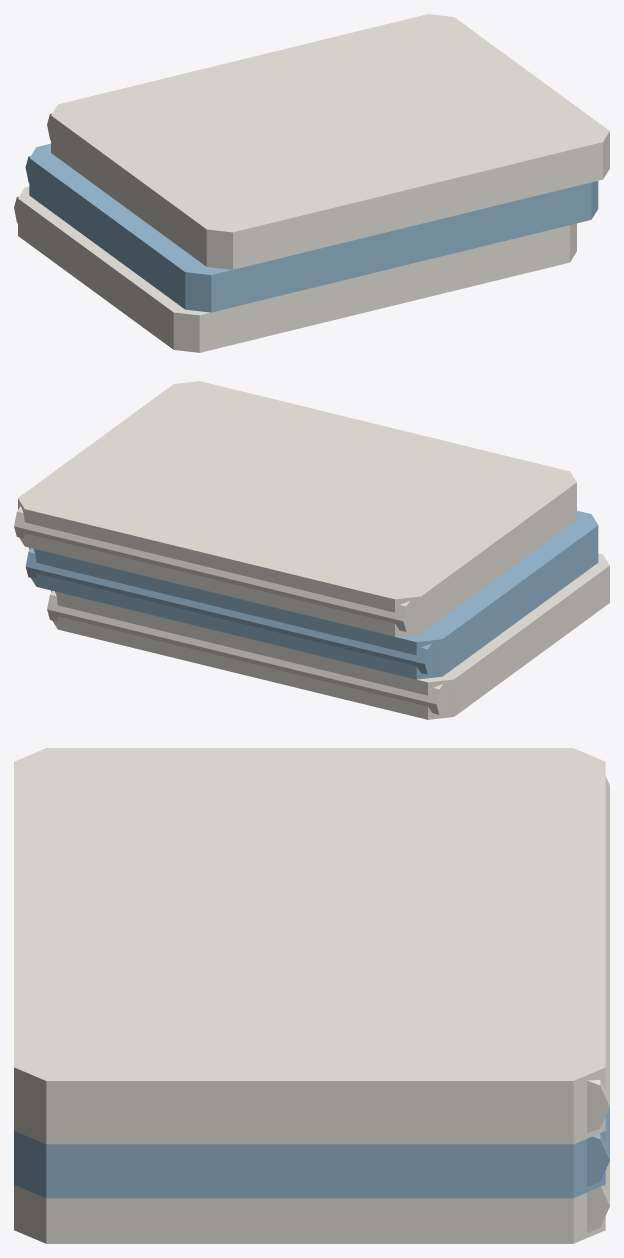
File: SM_LPI_Text_TeaTowelFolded_01.fbx
3 views of the same model, one above another, from view 1: azimuth 30°, elevation 25°; view 2: azimuth 150°, elevation 25°; view 3: azimuth 270°, elevation 25° (orthographic). The views are drawn at different scales.
Visible parts, largest first — view 1: SM_LPI_Text_TeaTowelFolded_01; view 2: SM_LPI_Text_TeaTowelFolded_01; view 3: SM_LPI_Text_TeaTowelFolded_01.
Part boxes in pixels (bbox=[...]): SM_LPI_Text_TeaTowelFolded_01: bbox=[14, 14, 609, 352]; SM_LPI_Text_TeaTowelFolded_01: bbox=[14, 381, 609, 719]; SM_LPI_Text_TeaTowelFolded_01: bbox=[14, 748, 609, 1243].
Size of the model in its own units: 0.3168 by 0.078 by 0.2216.
